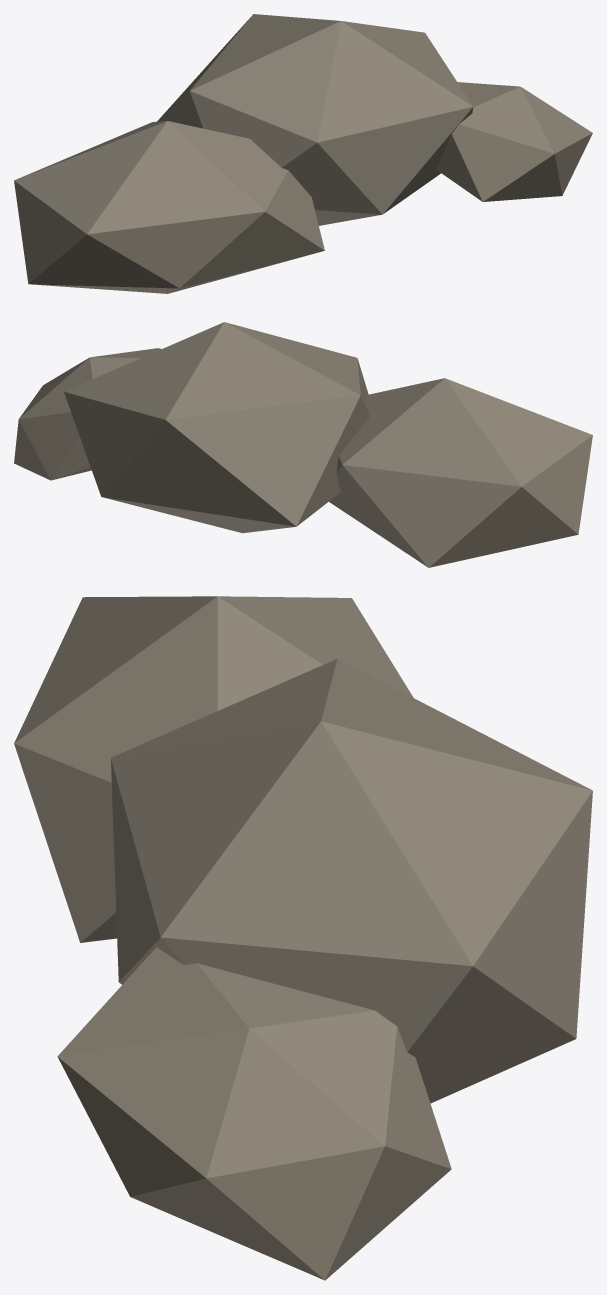
Rendered from old_klim_rock_scatter_a.glb.
3 views of the same model, one above another, from view 1: azimuth 30°, elevation 25°; view 2: azimuth 150°, elevation 25°; view 3: azimuth 270°, elevation 25° (orthographic). The views are drawn at different scales.
Visible parts, largest first — view 1: old_klim_rock_scatter_a_old_klim_ash_beige_rock_ground_detai; view 2: old_klim_rock_scatter_a_old_klim_ash_beige_rock_ground_detai; view 3: old_klim_rock_scatter_a_old_klim_ash_beige_rock_ground_detai.
Boxes of the visible parts, x1,y1,x2,y2 form: old_klim_rock_scatter_a_old_klim_ash_beige_rock_ground_detai: (14,14,592,293); old_klim_rock_scatter_a_old_klim_ash_beige_rock_ground_detai: (14,322,592,567); old_klim_rock_scatter_a_old_klim_ash_beige_rock_ground_detai: (14,596,592,1280).
Bounding box in the file's own units: 1.79 × 0.6312 × 0.8758.
